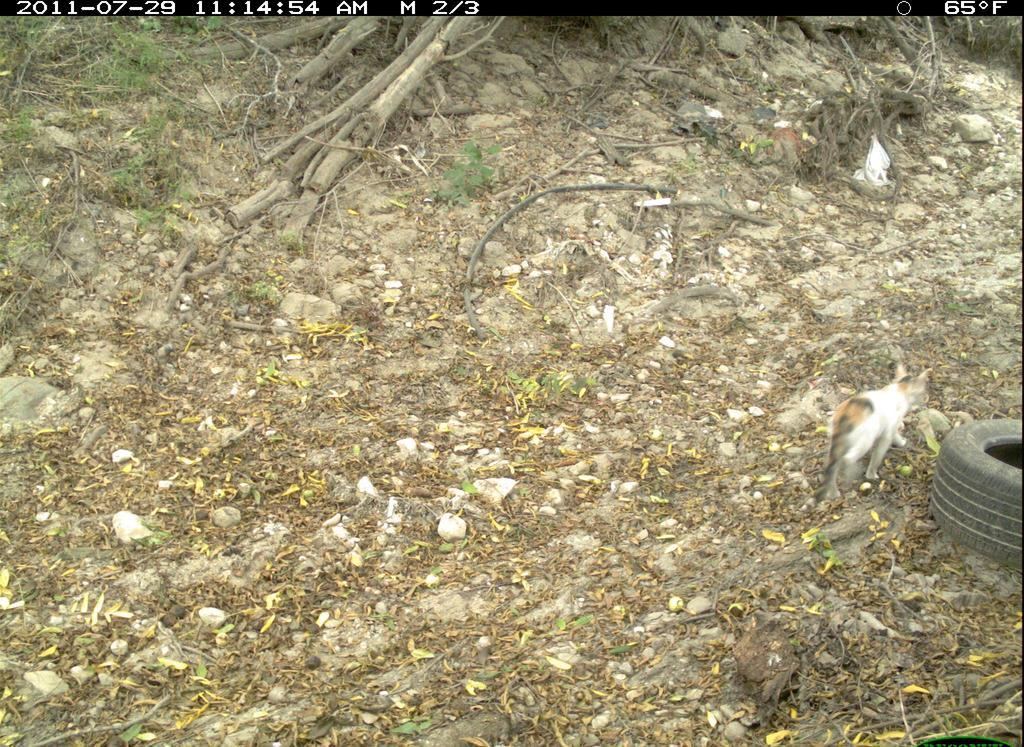cat: (803, 364, 937, 511)
